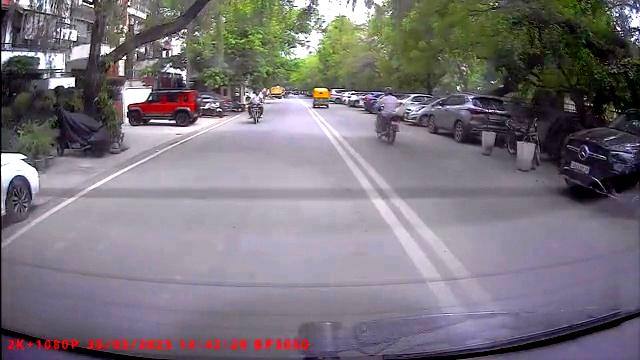motorcycle_with_helmet: (372, 85, 404, 146)
motorcycle_without_helmet: (247, 89, 264, 124)
